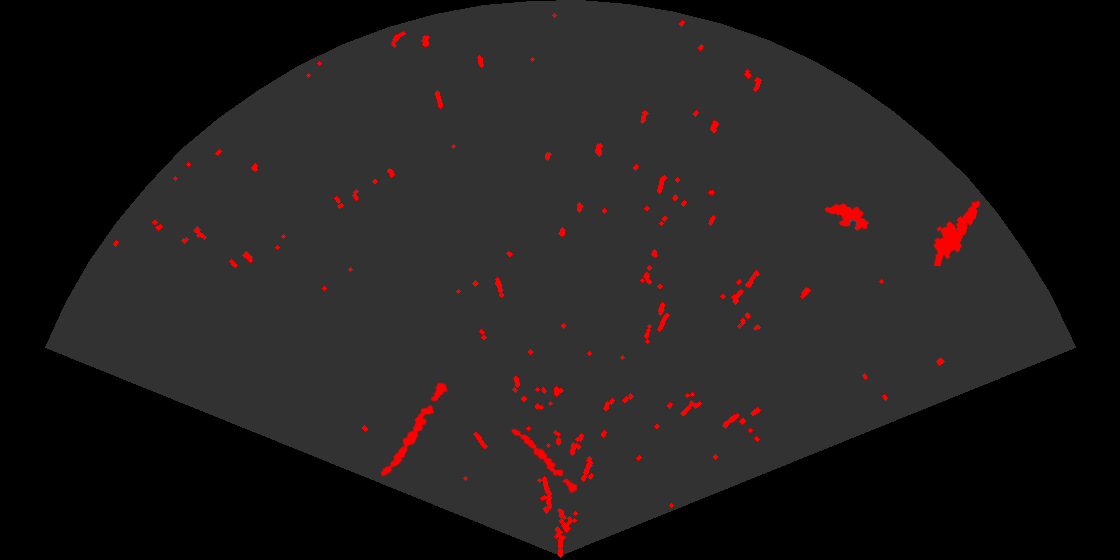AUV: (823, 202, 871, 232)
chain: (379, 381, 450, 478), (510, 427, 584, 499)
frogman: (932, 199, 982, 266)
